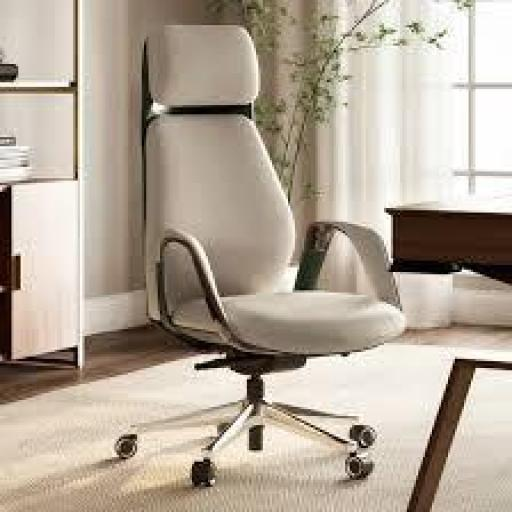chair: (111, 16, 410, 496)
